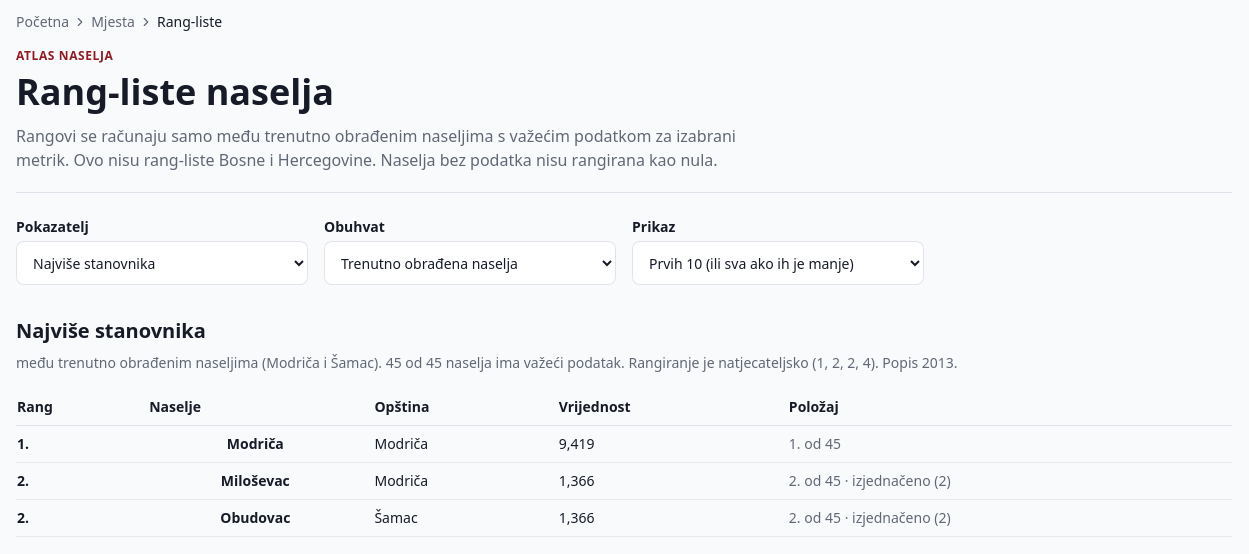
it: atlas pages › renders rankings with ties, eligible denominator and pilot wording
Check: the heading "Rang-liste naselja" is shown, box [16,67,334,116]
Check: the text "nisu rang-liste Bosne i Hercegovine" is shown, box [16,125,736,171]
Select "Opština" in the dropdown labelled "Obuhvat" at (470, 263), box [324,241,616,285]
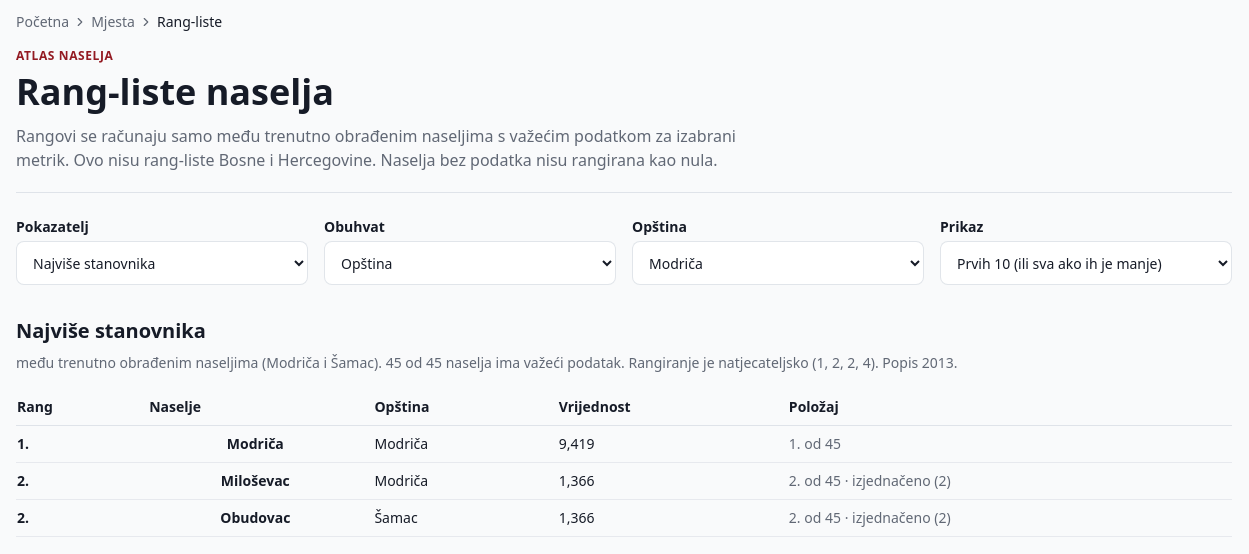
Check: the dropdown labelled "Opština" is shown, box [632,241,924,285]
